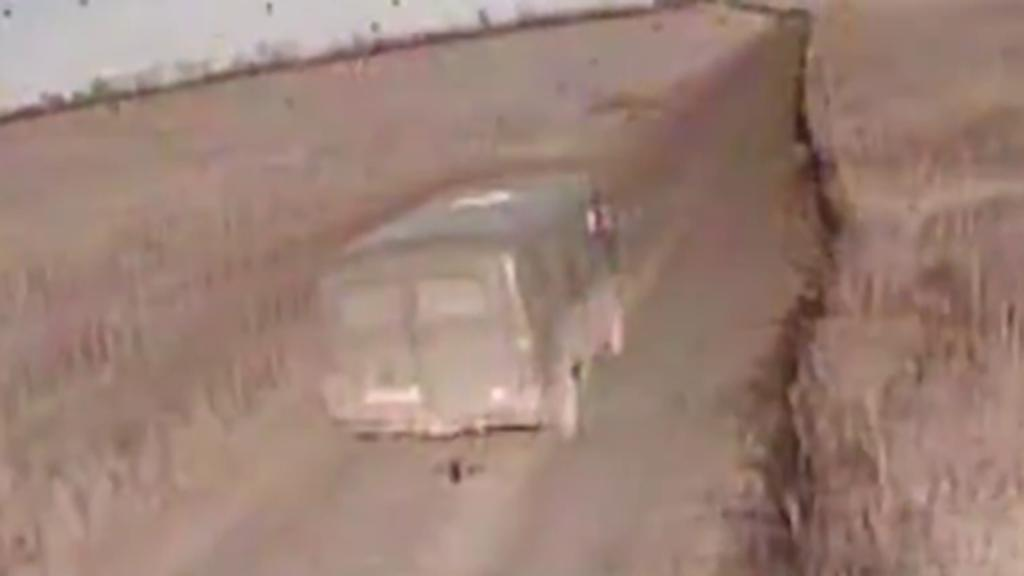CAR: (322, 170, 626, 472)
